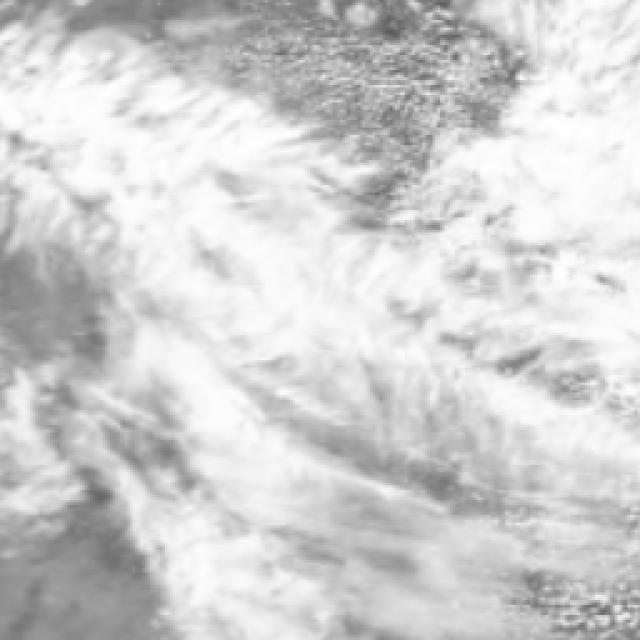CB: (58, 84, 228, 260), (534, 0, 640, 276), (156, 393, 339, 541), (172, 224, 345, 378), (166, 502, 313, 640)
